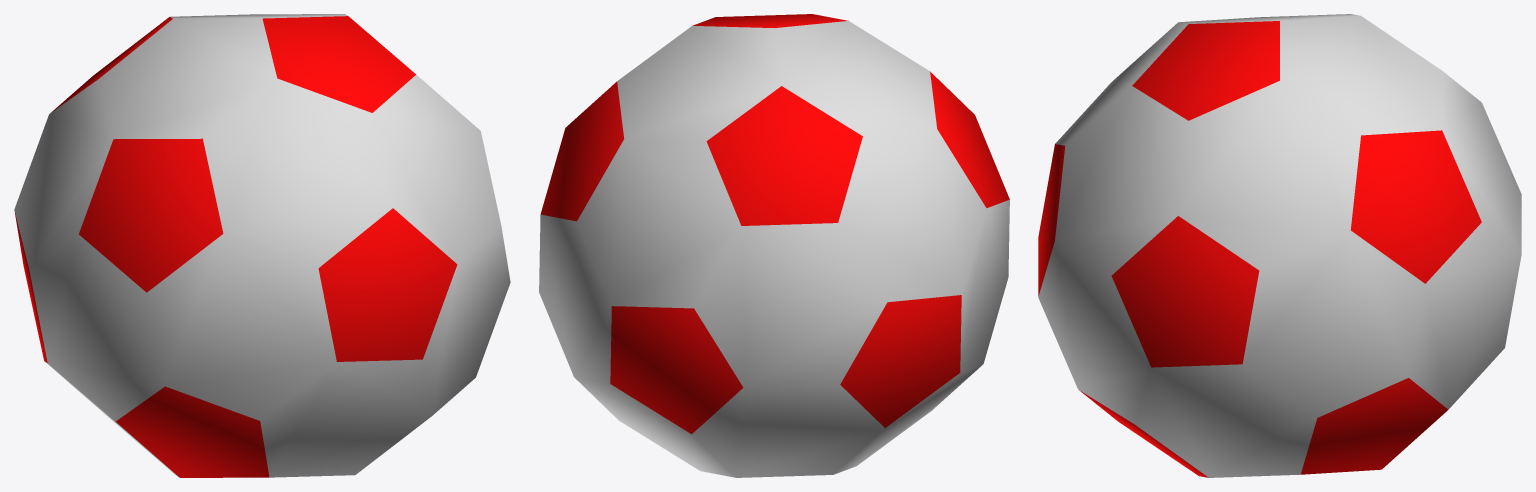
File: redBall.glb
3 renders of one model, left to right at view 1: azimuth 30°, elevation 25°; view 2: azimuth 150°, elevation 25°; view 3: azimuth 270°, elevation 25°, orthographic. The views are drawn at different scales.
Parts seen in each view (by area): view 1: redBall; view 2: redBall; view 3: redBall.
Boxes of the visible parts, box(x1,y1,x2,y2) form: redBall: box(14, 14, 510, 477); redBall: box(539, 14, 1009, 477); redBall: box(1038, 14, 1521, 477).
Size of what is drawn, in the model's own units: 1.97 by 2 by 1.95.
